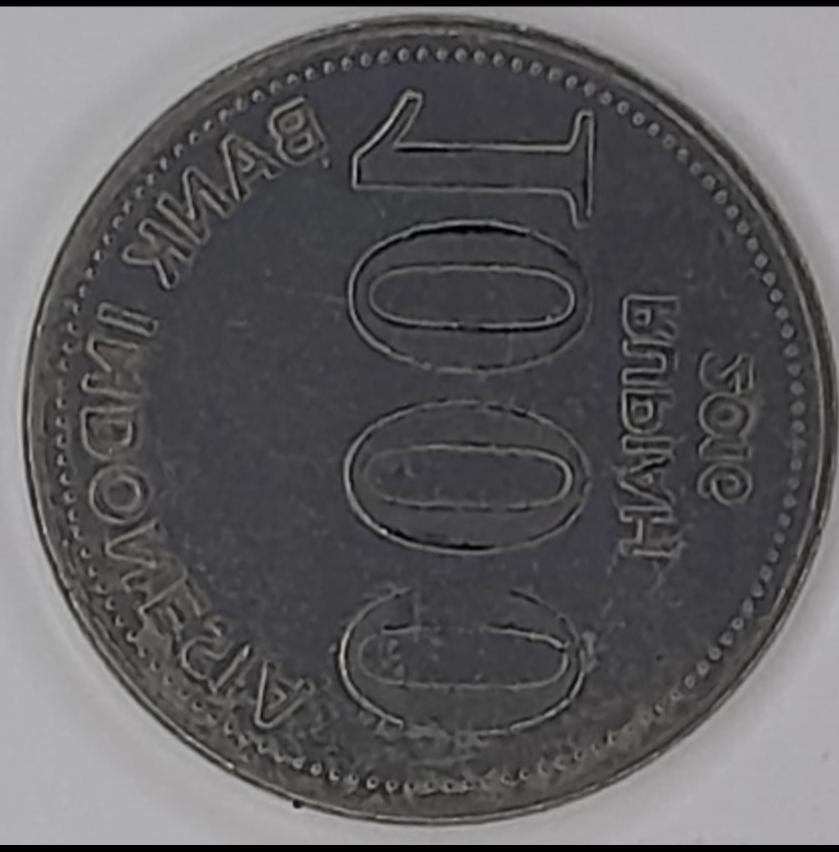coin_1000_e2016: (14, 17, 828, 852)
